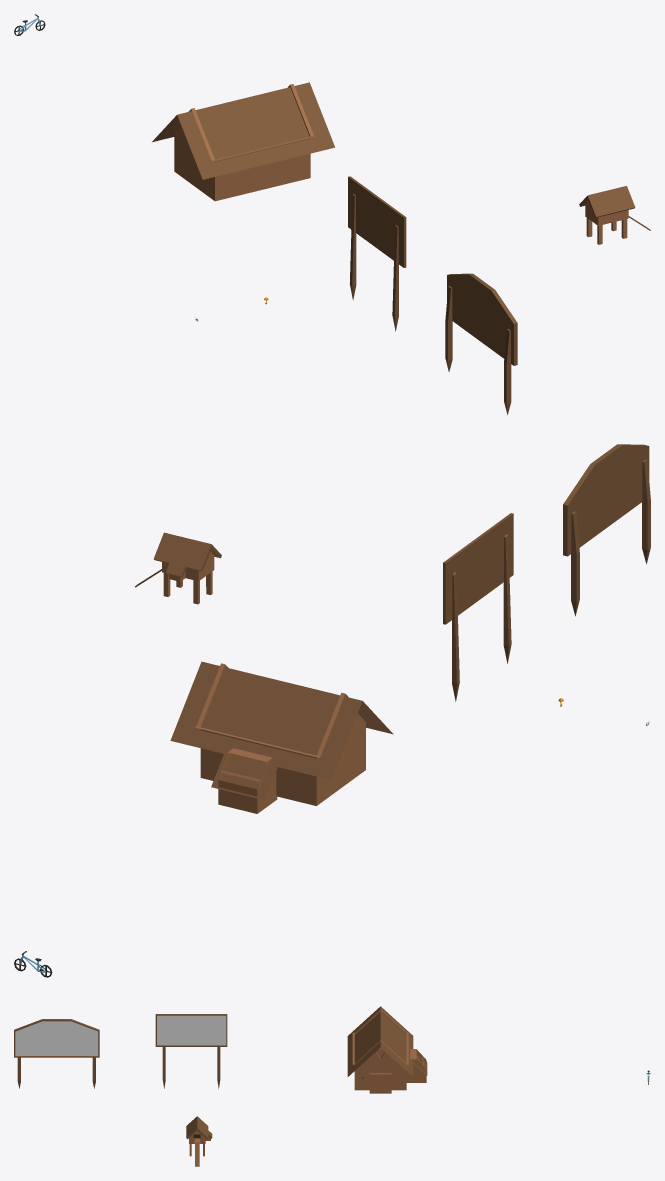
Rendered from Varied_Gingerpack_Assets_v2.fbx.
3 views of the same model, one above another, from view 1: azimuth 30°, elevation 25°; view 2: azimuth 150°, elevation 25°; view 3: azimuth 270°, elevation 25° (orthographic). The views are drawn at different scales.
Parts seen in each view (by area): view 1: Minigame_Whack_A_Chicken_Henhouse_1, Village_Billboard_2, Village_Billboard_1, Farm_Henhouse_2; view 2: Minigame_Whack_A_Chicken_Henhouse_1, Village_Billboard_2, Village_Billboard_1, Farm_Henhouse_2; view 3: Minigame_Whack_A_Chicken_Henhouse_1, Village_Billboard_2, Village_Billboard_1, Farm_Henhouse_2.
Boxes of the visible parts, x1,y1,x2,y2 form: Minigame_Whack_A_Chicken_Henhouse_1: (152,82,335,201); Village_Billboard_2: (445,273,517,414); Village_Billboard_1: (348,176,406,331); Farm_Henhouse_2: (579,186,650,244); Minigame_Whack_A_Chicken_Henhouse_1: (170,661,393,813); Village_Billboard_2: (563,444,650,616); Village_Billboard_1: (443,513,513,701); Farm_Henhouse_2: (135,532,221,604); Minigame_Whack_A_Chicken_Henhouse_1: (347,1006,427,1093); Village_Billboard_2: (14,1019,99,1088); Village_Billboard_1: (155,1014,227,1089); Farm_Henhouse_2: (186,1116,212,1166).
Bounding box in the file's own units: 3887 × 1015 × 7658.
